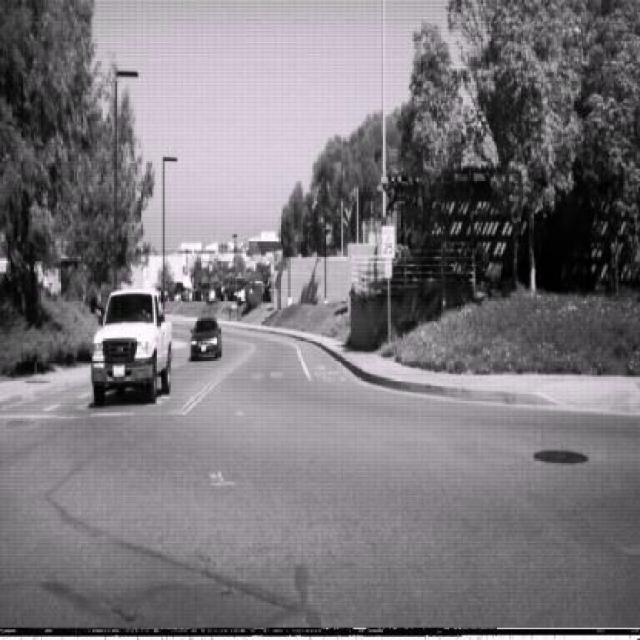speedLimit25: (382, 225, 396, 258)
